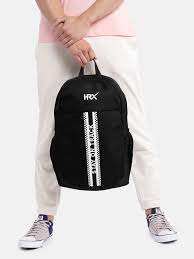backpack: (49, 58, 133, 190)
